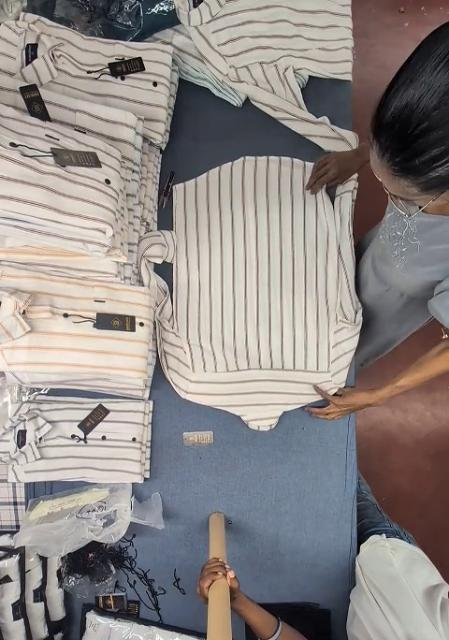new-garment: (143, 156, 361, 429)
